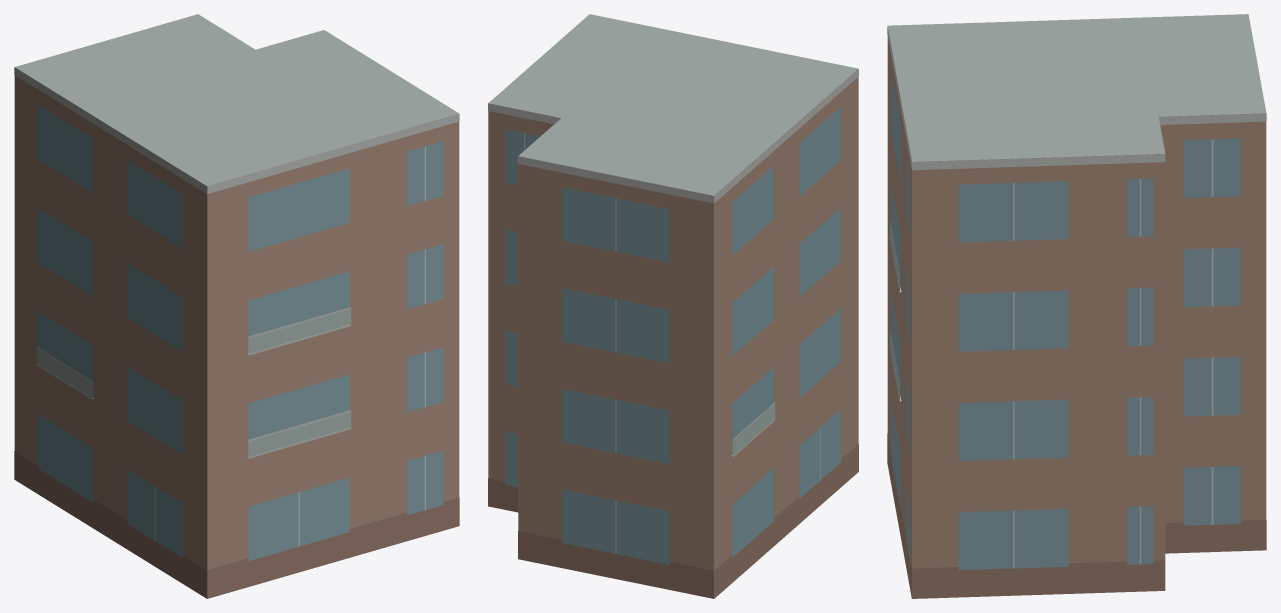
Rendered from survey-upis-32627116.glb.
3 views of the same model, side by side, from view 1: azimuth 30°, elevation 25°; view 2: azimuth 150°, elevation 25°; view 3: azimuth 270°, elevation 25° (orthographic). The views are drawn at different scales.
Visible parts, largest first — view 1: survey-upis-32627116.tmp; view 2: survey-upis-32627116.tmp; view 3: survey-upis-32627116.tmp.
Boxes of the visible parts, x1=… form: survey-upis-32627116.tmp: x1=14, y1=14, x2=459, y2=598; survey-upis-32627116.tmp: x1=488, y1=14, x2=858, y2=598; survey-upis-32627116.tmp: x1=887, y1=14, x2=1266, y2=598.
Bounding box in the file's own units: 9.3 × 12.8 × 10.07.
